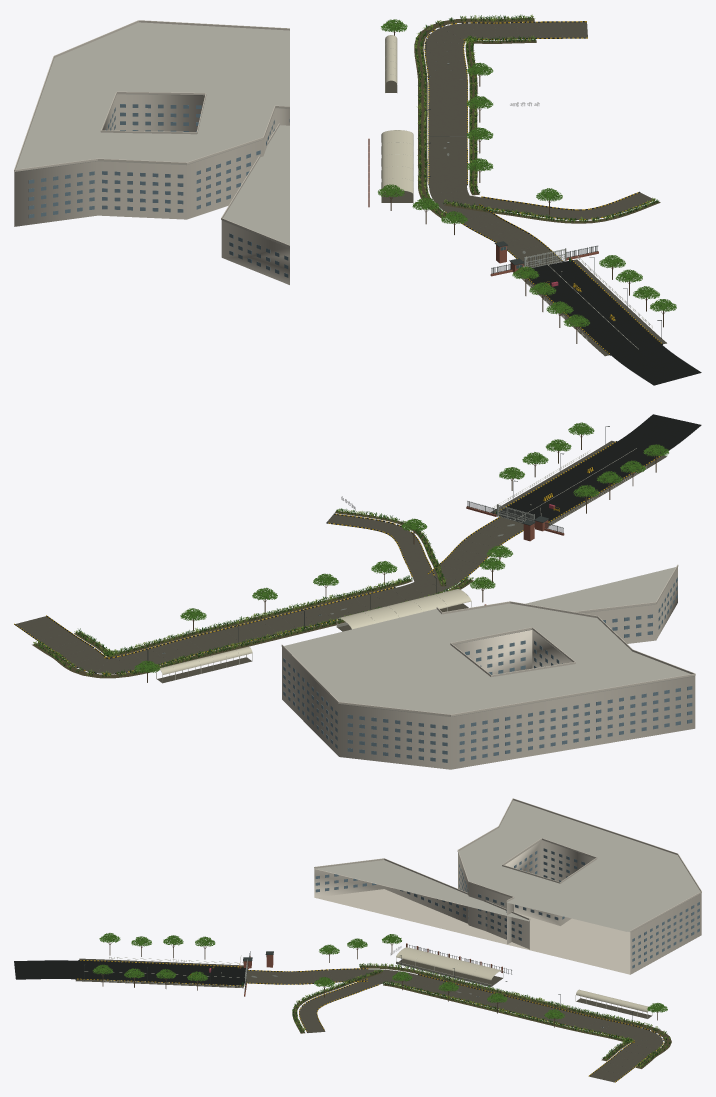
The model's file is gate9-detail.glb.
The picture shows the model from 3 angles, top to bottom: view 1: azimuth 30°, elevation 25°; view 2: azimuth 150°, elevation 25°; view 3: azimuth 270°, elevation 25°; orthographic projection. The views are drawn at different scales.
Parts seen in each view (by area): view 1: G9 static 08 Local context reconciliation SITE nearby weathe, G9 static 08 Local context reconciliation SITE nearby warm l, SITE_GROUND_gate9 03 Interior lanes G9 brushed warm concrete, SITE_GROUND_gate9 asphalt approach, G9 leaf_canopy 05 Planting G9 leaf tone 1, G9 static 05 Planting G9 planted earth, G9 static 08 Local context reconciliation SITE blue-grey rec, G9 static 04 Canopies G9 weathered tensile fabric, G9 leaf_canopy 05 Planting G9 leaf tone 0, G9 leaf_canopy 05 Planting G9 leaf tone 3, G9 static 03 Interior lanes G9 aged yellow kerb paint, G9 static 03 Interior lanes G9 charcoal kerb paint (+1 smaller); view 2: G9 static 08 Local context reconciliation SITE nearby weathe, G9 static 08 Local context reconciliation SITE nearby warm l, SITE_GROUND_gate9 03 Interior lanes G9 brushed warm concrete, SITE_GROUND_gate9 asphalt approach, G9 static 08 Local context reconciliation SITE blue-grey rec, G9 leaf_canopy 05 Planting G9 leaf tone 1, G9 static 05 Planting G9 planted earth, G9 static 04 Canopies G9 weathered tensile fabric, G9 leaf_canopy 05 Planting G9 leaf tone 0, G9 leaf_canopy 05 Planting G9 leaf tone 3, G9 static 03 Interior lanes G9 charcoal kerb paint, G9 static 03 Interior lanes G9 aged yellow kerb paint (+2 smaller); view 3: G9 static 08 Local context reconciliation SITE nearby weathe, G9 static 08 Local context reconciliation SITE nearby warm l, SITE_GROUND_gate9 03 Interior lanes G9 brushed warm concrete, SITE_GROUND_gate9 asphalt approach, G9 leaf_canopy 05 Planting G9 leaf tone 1, G9 static 05 Planting G9 planted earth, G9 static 08 Local context reconciliation SITE blue-grey rec, G9 leaf_canopy 05 Planting G9 leaf tone 0, G9 static 04 Canopies G9 weathered tensile fabric, G9 leaf_canopy 05 Planting G9 leaf tone 3, SITE_GROUND_gate9 04 Canopies G9 brushed warm concrete, G9 static 03 Interior lanes G9 charcoal kerb paint (+2 smaller).
Boxes of the visible parts, x1,y1,x2,y2 form: G9 static 08 Local context reconciliation SITE nearby weathe: [14, 22, 289, 247]; G9 static 08 Local context reconciliation SITE nearby warm l: [14, 20, 289, 284]; SITE_GROUND_gate9 03 Interior lanes G9 brushed warm concrete: [425, 22, 652, 267]; SITE_GROUND_gate9 asphalt approach: [524, 260, 701, 385]; G9 leaf_canopy 05 Planting G9 leaf tone 1: [378, 19, 676, 327]; G9 static 05 Planting G9 planted earth: [414, 18, 660, 223]; G9 static 08 Local context reconciliation SITE blue-grey rec: [28, 104, 289, 277]; G9 static 04 Canopies G9 weathered tensile fabric: [381, 35, 413, 193]; G9 leaf_canopy 05 Planting G9 leaf tone 0: [415, 14, 658, 222]; G9 leaf_canopy 05 Planting G9 leaf tone 3: [414, 14, 655, 222]; G9 static 03 Interior lanes G9 aged yellow kerb paint: [424, 21, 650, 267]; G9 static 03 Interior lanes G9 charcoal kerb paint: [424, 21, 653, 265]; G9 static 08 Local context reconciliation SITE nearby weathe: [284, 567, 694, 716]; G9 static 08 Local context reconciliation SITE nearby warm l: [281, 564, 695, 769]; SITE_GROUND_gate9 03 Interior lanes G9 brushed warm concrete: [16, 514, 523, 673]; SITE_GROUND_gate9 asphalt approach: [499, 414, 701, 523]; G9 static 08 Local context reconciliation SITE blue-grey rec: [283, 577, 692, 762]; G9 leaf_canopy 05 Planting G9 leaf tone 1: [134, 422, 668, 672]; G9 static 05 Planting G9 planted earth: [32, 511, 473, 678]; G9 static 04 Canopies G9 weathered tensile fabric: [156, 589, 471, 674]; G9 leaf_canopy 05 Planting G9 leaf tone 0: [35, 508, 473, 677]; G9 leaf_canopy 05 Planting G9 leaf tone 3: [33, 509, 472, 676]; G9 static 03 Interior lanes G9 charcoal kerb paint: [15, 513, 523, 673]; G9 static 03 Interior lanes G9 aged yellow kerb paint: [14, 514, 523, 674]; G9 static 08 Local context reconciliation SITE nearby weathe: [314, 800, 701, 932]; G9 static 08 Local context reconciliation SITE nearby warm l: [314, 798, 701, 974]; SITE_GROUND_gate9 03 Interior lanes G9 brushed warm concrete: [246, 969, 663, 1082]; SITE_GROUND_gate9 asphalt approach: [14, 960, 247, 985]; G9 leaf_canopy 05 Planting G9 leaf tone 1: [92, 933, 667, 1018]; G9 static 05 Planting G9 planted earth: [292, 965, 671, 1068]; G9 static 08 Local context reconciliation SITE blue-grey rec: [315, 848, 699, 968]; G9 leaf_canopy 05 Planting G9 leaf tone 0: [292, 963, 670, 1066]; G9 static 04 Canopies G9 weathered tensile fabric: [396, 947, 647, 1012]; G9 leaf_canopy 05 Planting G9 leaf tone 3: [292, 963, 670, 1067]; SITE_GROUND_gate9 04 Canopies G9 brushed warm concrete: [399, 959, 651, 1018]; G9 static 03 Interior lanes G9 charcoal kerb paint: [244, 968, 663, 1081].
Bounding box in the file's own units: 233 × 26.06 × 281.
Materials: 25 (3 with a texture image).
